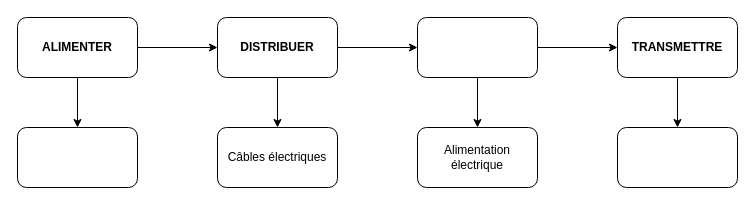
Some shapes in this 755 by 205 pixel diagram are drawn without their labels. Here are the shapes that lost their labels. From the top down, the centre of each, then its label:
At point (477, 47): "CONVERTIR".
At point (77, 157): "Panneau solaire".
At point (677, 157): "LED".
